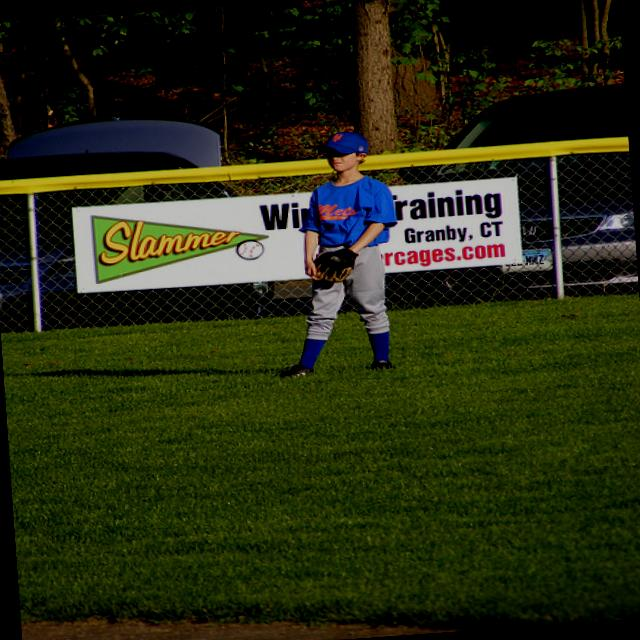Vehicle: (378, 82, 638, 307), (0, 142, 271, 336), (0, 106, 225, 182)
